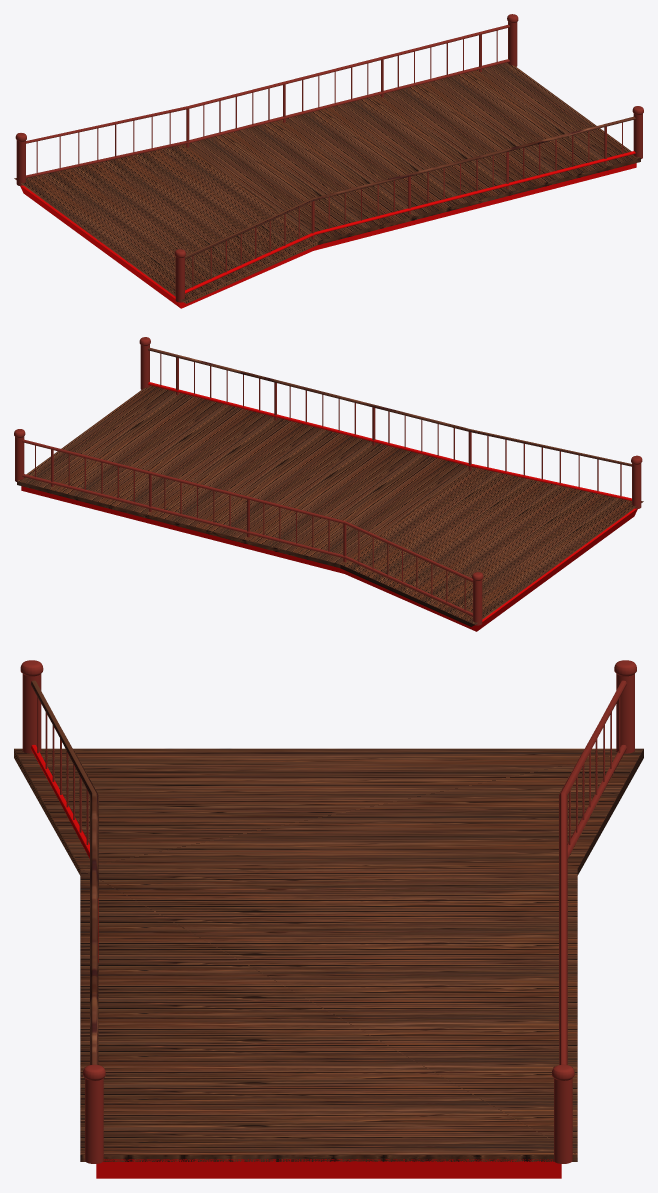
The model's file is bridge2.fbx.
3 views of the same model, one above another, from view 1: azimuth 30°, elevation 25°; view 2: azimuth 150°, elevation 25°; view 3: azimuth 270°, elevation 25° (orthographic). The views are drawn at different scales.
Parts seen in each view (by area): view 1: bridgeSurface2, bridgeBottom2, bridgeHandle7, bridgeHandle2, bridgeHandle, bridgeHandle1, bridgeColumnEnd (×2), bridgeColumnEnd1 (×2); view 2: bridgeSurface2, bridgeBottom2, bridgeHandle, bridgeHandle1, bridgeHandle7, bridgeHandle2, bridgeColumnEnd (×2), bridgeColumnEnd1 (×2); view 3: bridgeSurface2, bridgeBottom2, bridgeColumnEnd1 (×2), bridgeHandle, bridgeHandle7, bridgeColumnEnd (×2), bridgeHandle2, bridgeHandle1.
Part boxes in pixels (left/top/right/bottom): bridgeSurface2: left=14, top=62, right=640, bottom=303; bridgeBottom2: left=20, top=163, right=636, bottom=308; bridgeHandle7: left=26, top=24, right=509, bottom=143; bridgeHandle2: left=26, top=59, right=509, bottom=177; bridgeHandle: left=185, top=116, right=635, bottom=259; bridgeHandle1: left=185, top=151, right=635, bottom=293; bridgeColumnEnd (×2): left=15, top=133, right=185, bottom=302; bridgeColumnEnd1 (×2): left=507, top=14, right=643, bottom=158; bridgeSurface2: left=17, top=385, right=643, bottom=626; bridgeBottom2: left=21, top=486, right=637, bottom=631; bridgeHandle: left=148, top=347, right=631, bottom=466; bridgeHandle1: left=148, top=382, right=631, bottom=500; bridgeHandle7: left=22, top=439, right=472, bottom=582; bridgeHandle2: left=22, top=474, right=472, bottom=616; bridgeColumnEnd (×2): left=472, top=455, right=642, bottom=625; bridgeColumnEnd1 (×2): left=14, top=337, right=150, bottom=481; bridgeSurface2: left=14, top=748, right=643, bottom=1161; bridgeBottom2: left=96, top=1159, right=561, bottom=1178; bridgeColumnEnd1 (×2): left=83, top=1064, right=574, bottom=1163; bridgeHandle: left=31, top=680, right=98, bottom=1064; bridgeHandle7: left=559, top=680, right=626, bottom=1064; bridgeColumnEnd (×2): left=20, top=660, right=636, bottom=753; bridgeHandle2: left=559, top=745, right=626, bottom=1031; bridgeHandle1: left=31, top=745, right=98, bottom=962.
Bounding box in the file's own units: 7.15 × 1.05 × 4.32.
4 materials, 2 textured.
